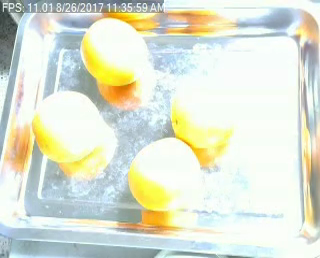Orange: (127, 136, 201, 211), (32, 91, 103, 160), (78, 17, 149, 85), (173, 84, 235, 148)
